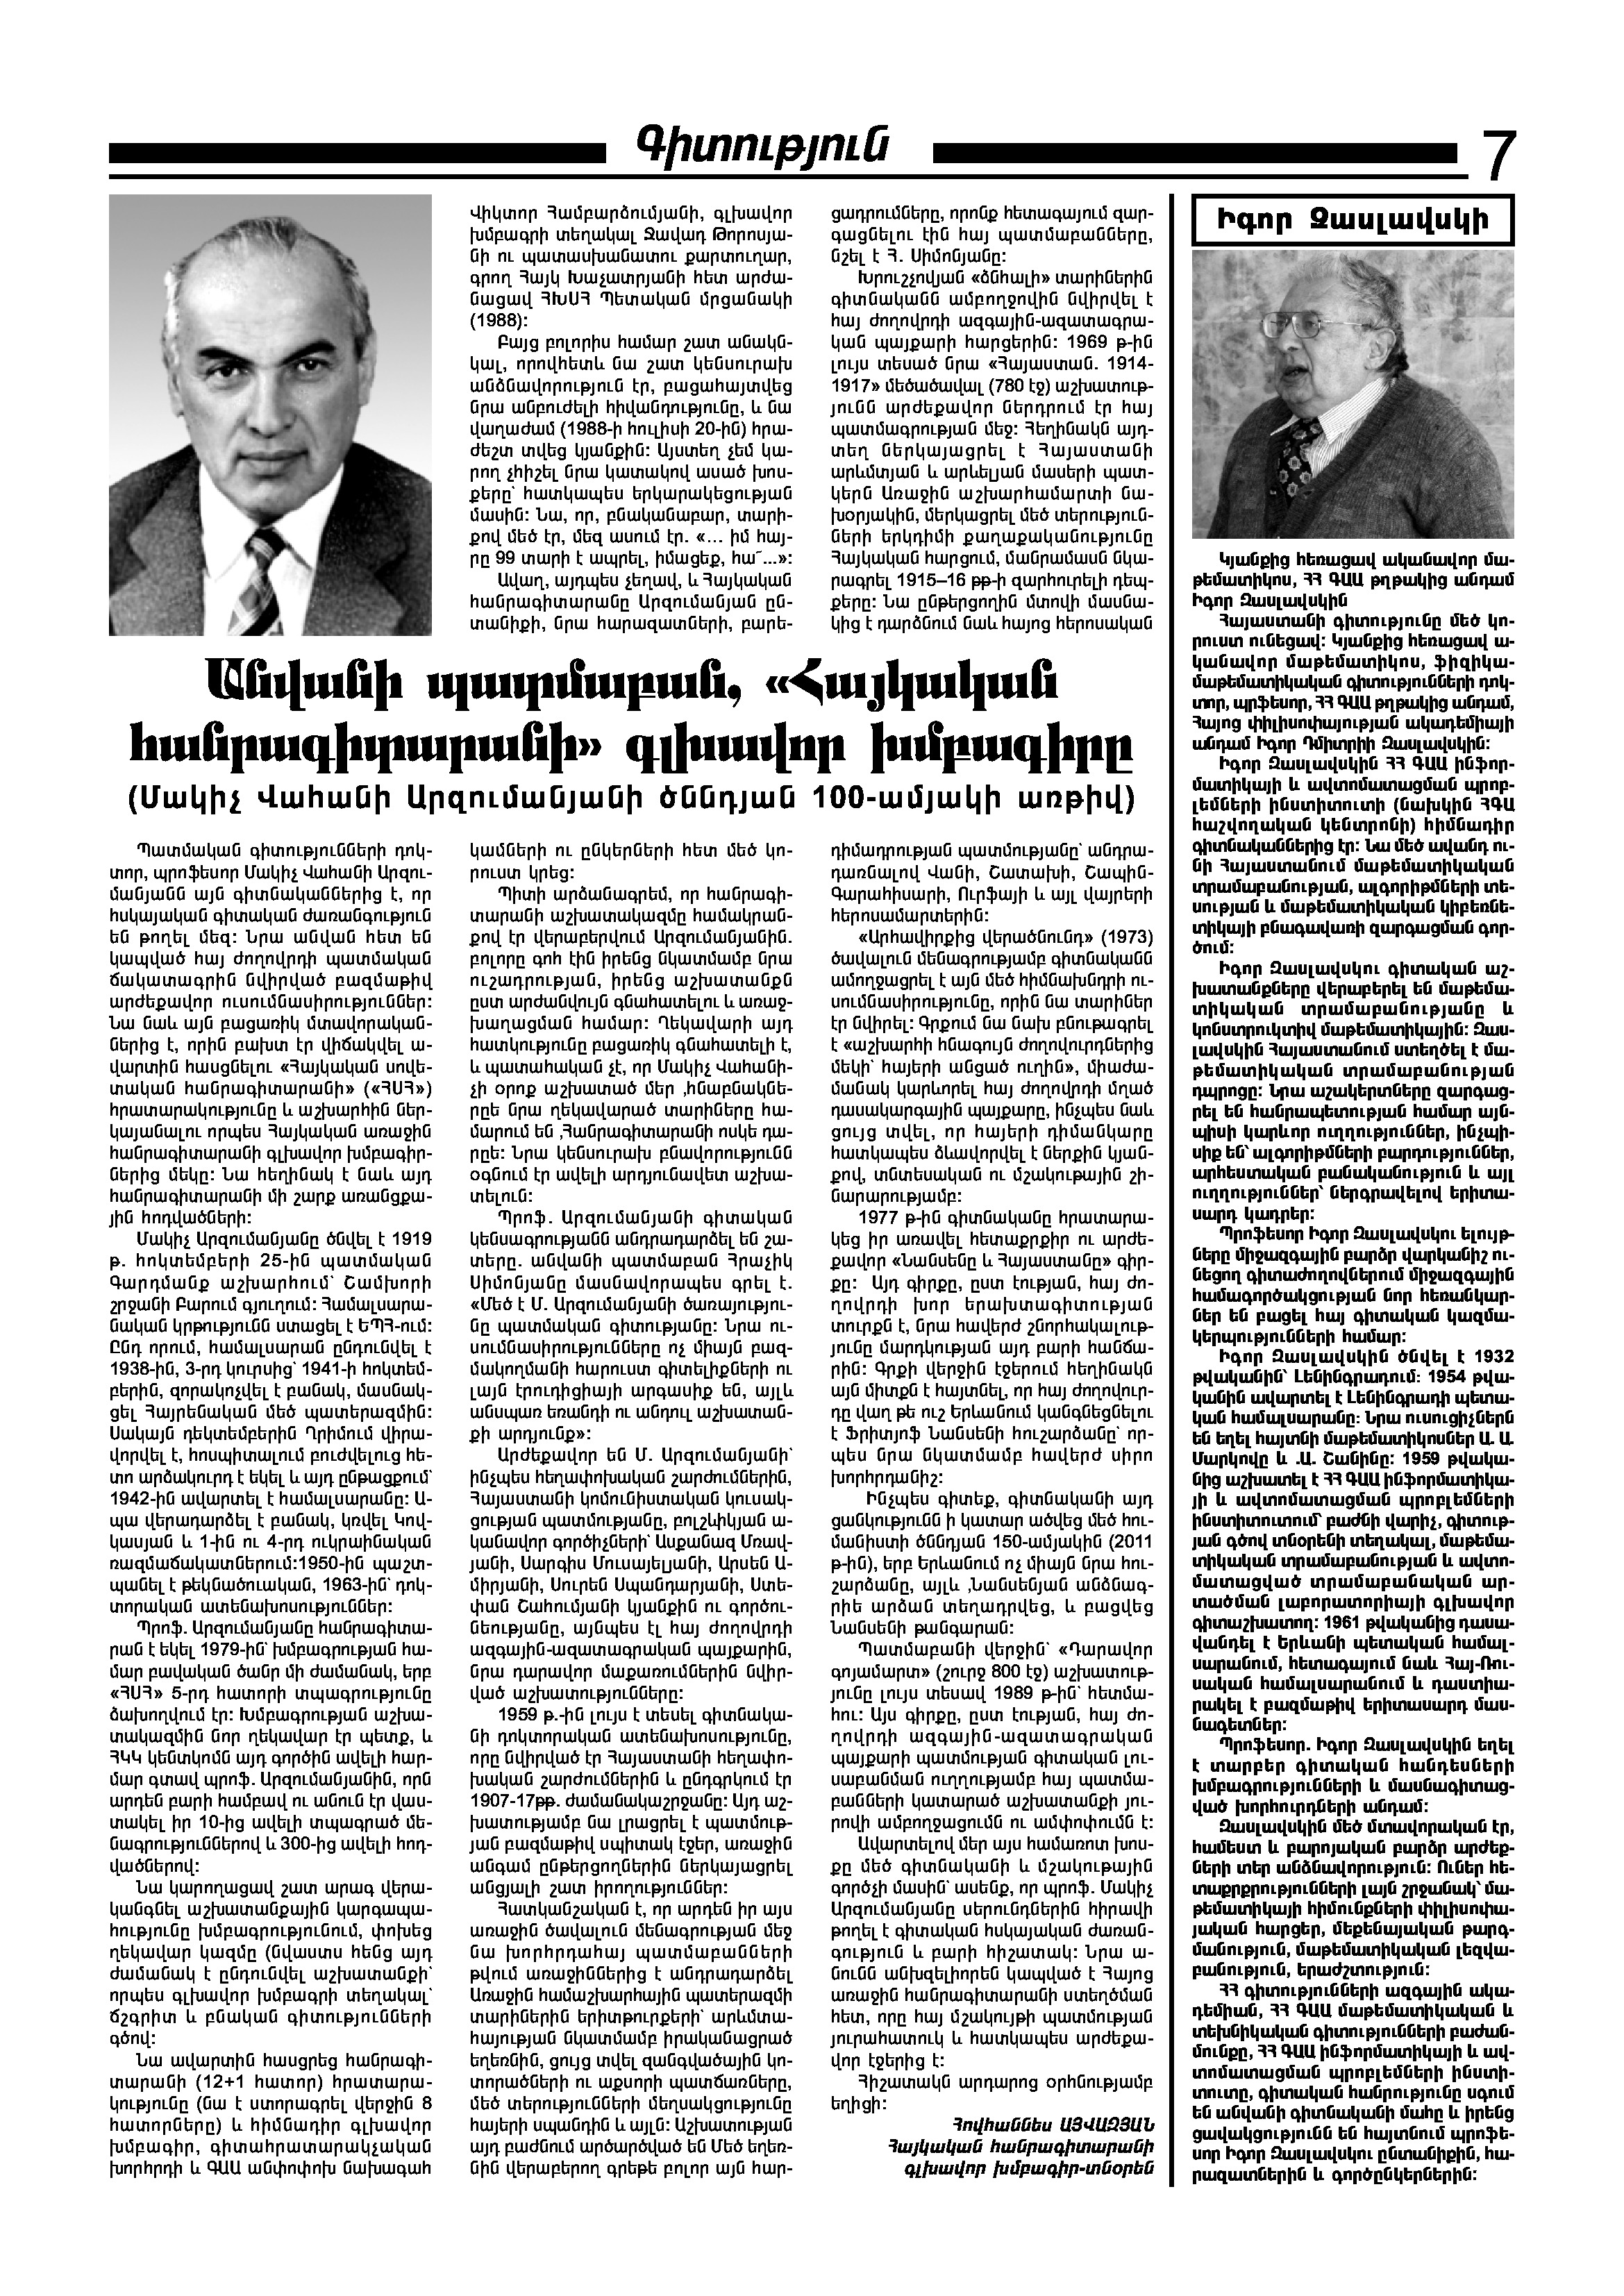table: (98, 183, 443, 646), (1193, 237, 1519, 538)
